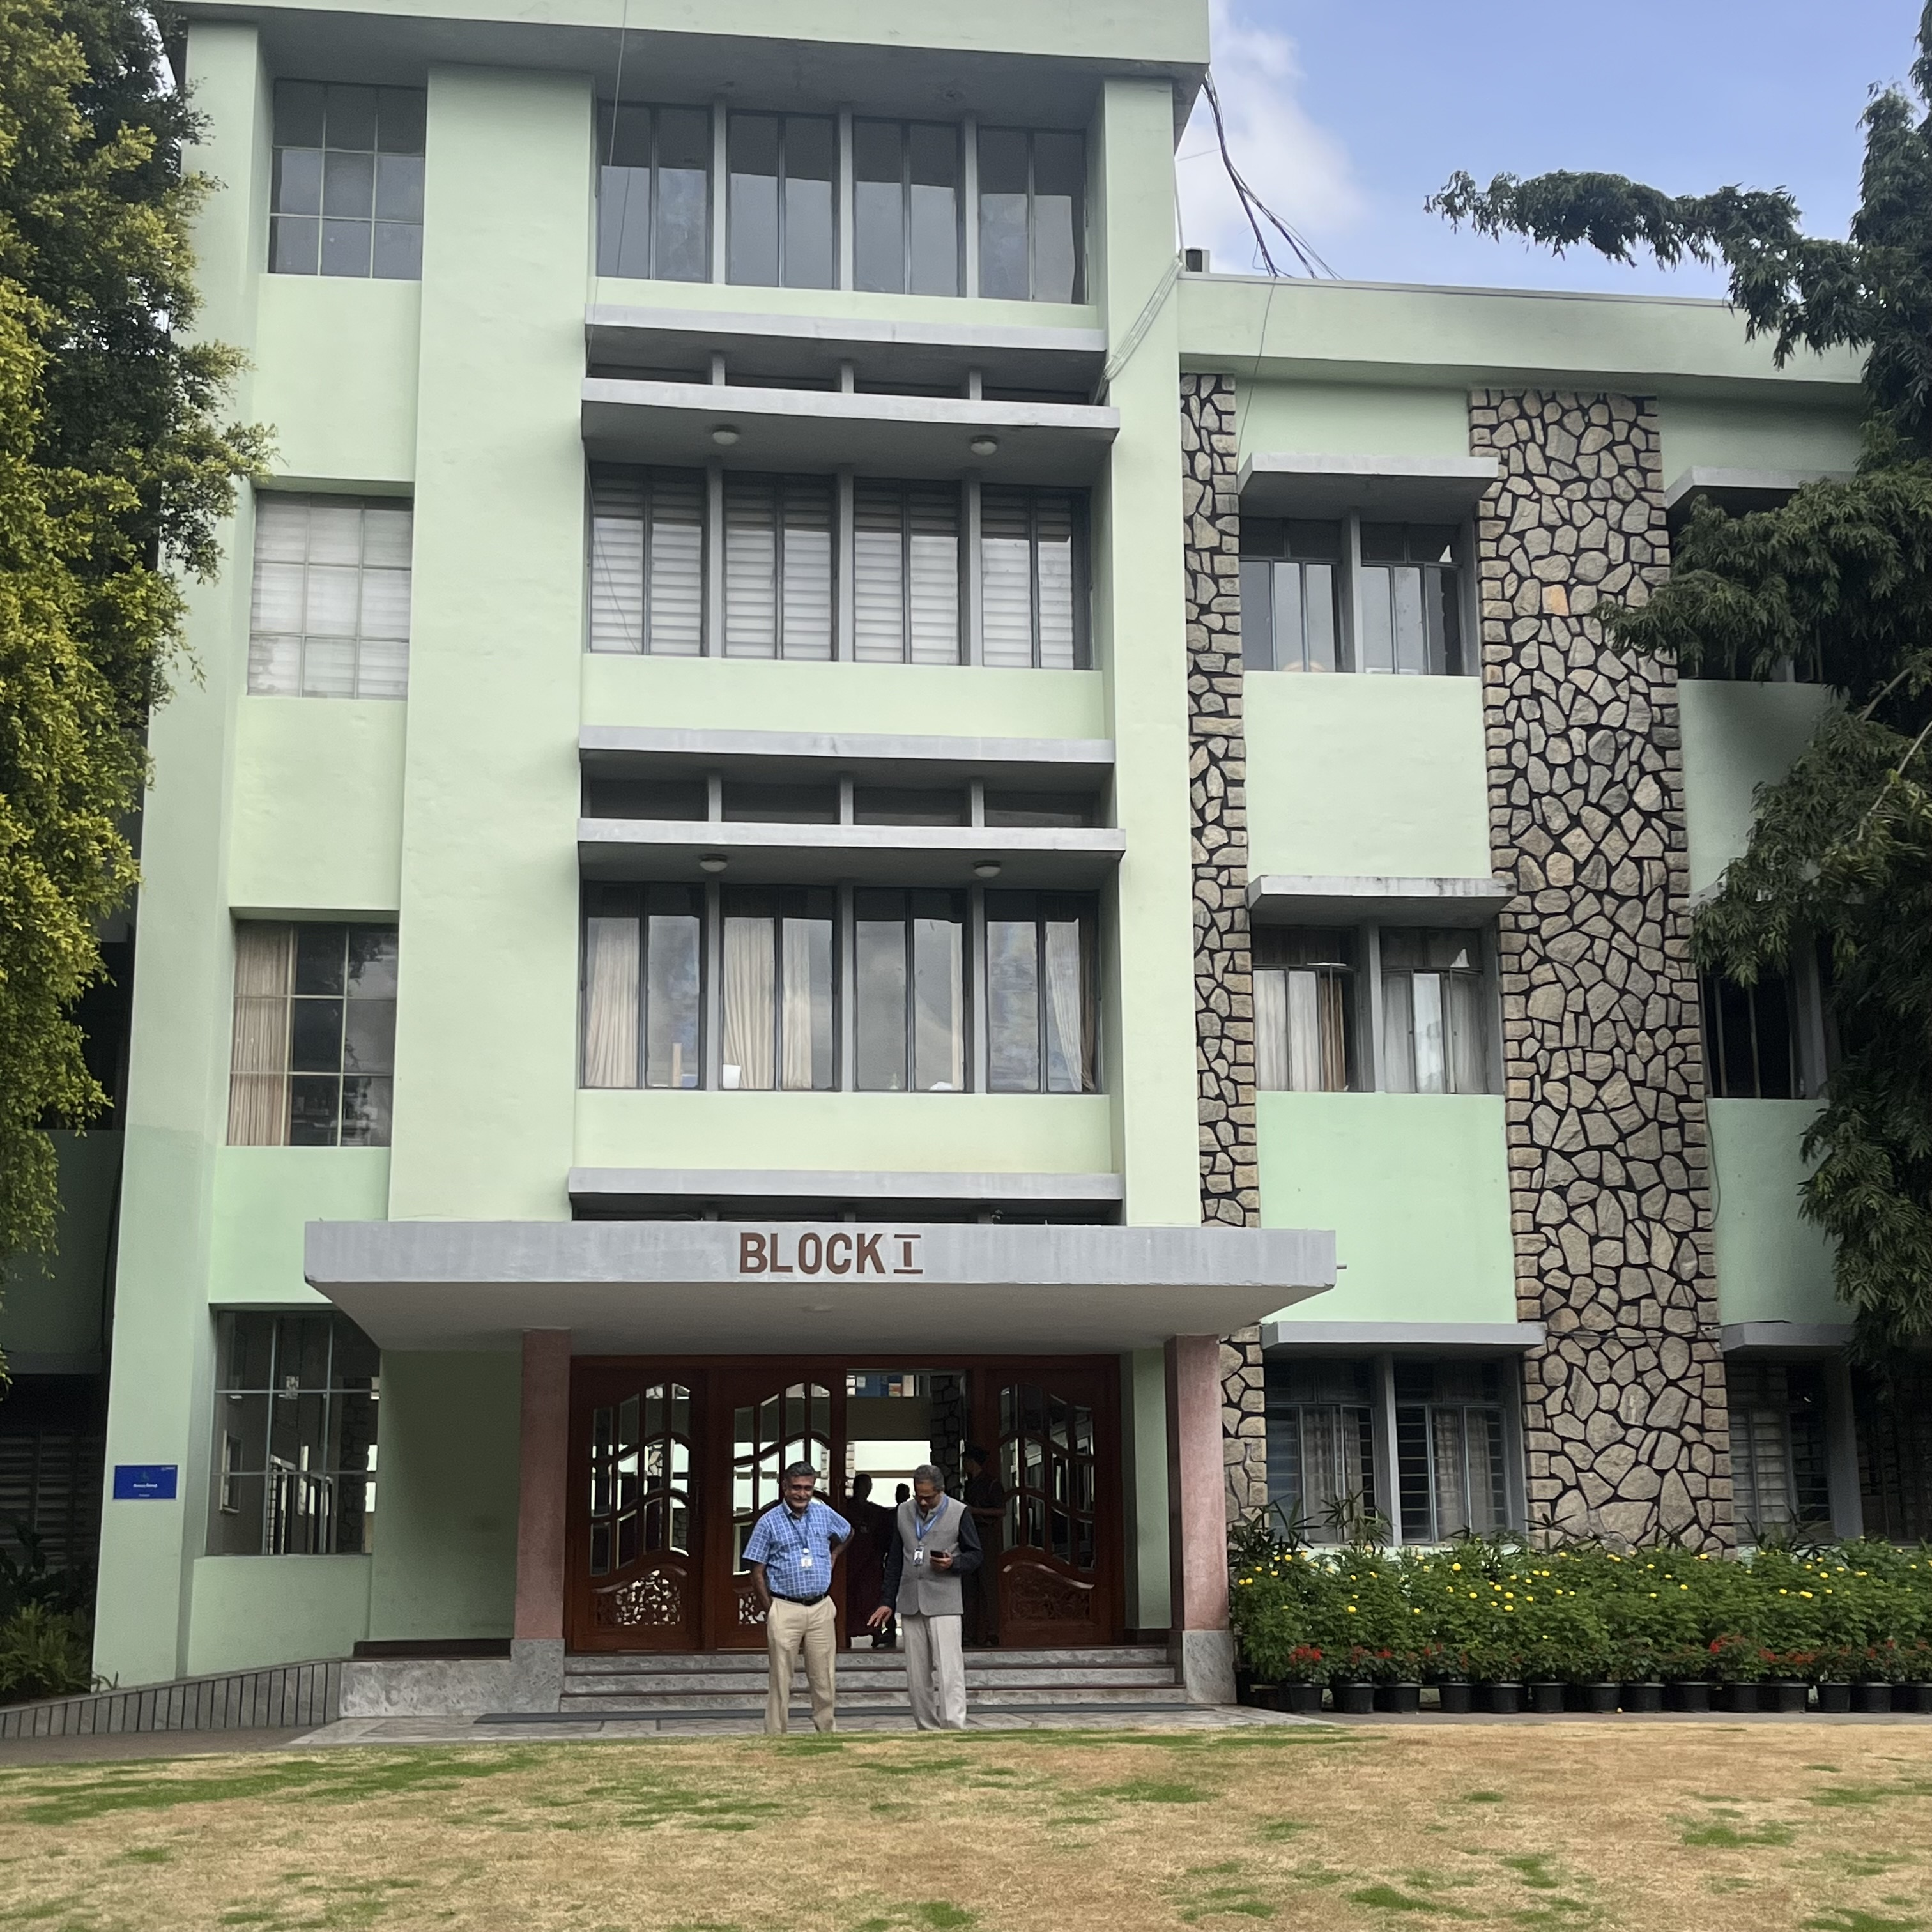Block 1: (207, 41, 1868, 1663)
